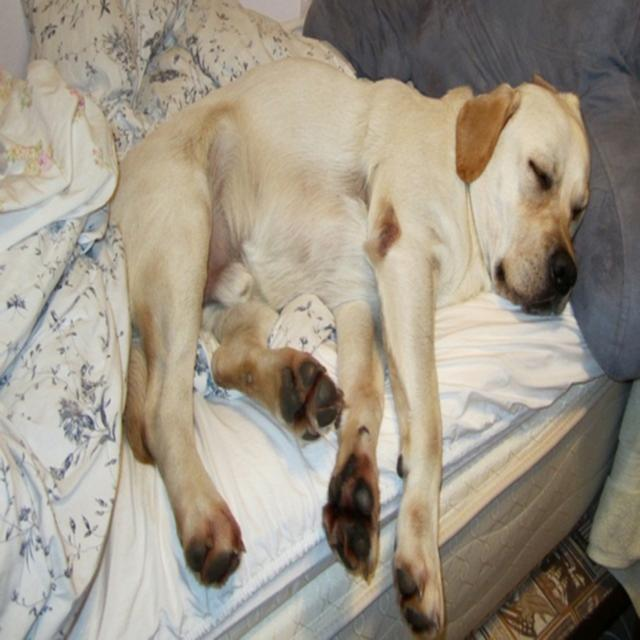dog: (107, 56, 591, 638)
